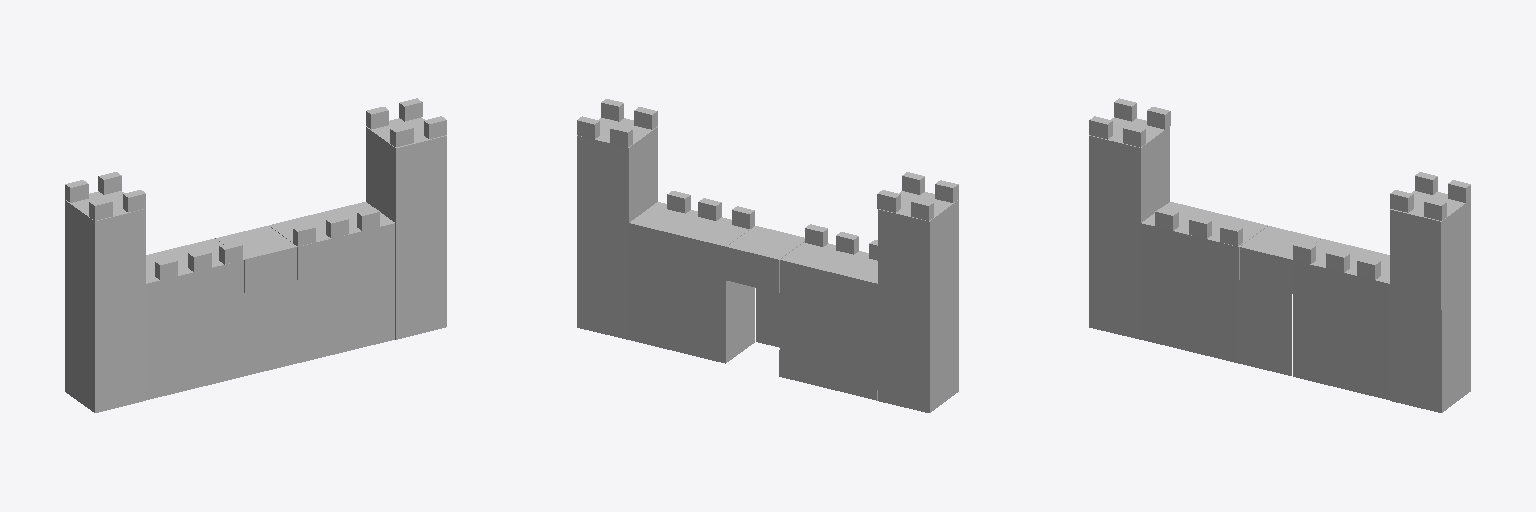
Rendered from CastleFront.obj.
The picture shows the model from 3 angles: view 1: azimuth 30°, elevation 25°; view 2: azimuth 150°, elevation 25°; view 3: azimuth 330°, elevation 25°; orthographic projection.
Parts seen in each view (by area): view 1: Cube, Cube.002, Cube.003, Cube.001_Cube.018, Plane, Cube.018_Cube.023; view 2: Cube, Cube.002, Cube.001_Cube.018, Cube.003, Cube.018_Cube.023, Plane; view 3: Cube.003, Cube.001_Cube.018, Cube, Cube.002, Plane, Cube.018_Cube.023.
Boxes of the visible parts, box(x1,y1,x2,y2) form: Cube: box(65, 191, 145, 412); Cube.002: box(269, 202, 394, 362); Cube.003: box(366, 117, 446, 339); Cube.001_Cube.018: box(146, 238, 243, 399); Plane: box(244, 280, 297, 375); Cube.018_Cube.023: box(215, 226, 296, 292); Cube: box(878, 191, 958, 412); Cube.002: box(629, 202, 754, 363); Cube.001_Cube.018: box(779, 242, 877, 400); Cube.003: box(577, 118, 657, 339); Cube.018_Cube.023: box(726, 226, 804, 292); Plane: box(756, 288, 779, 347); Cube.003: box(1390, 191, 1470, 412); Cube.001_Cube.018: box(1141, 202, 1267, 363); Cube: box(1089, 117, 1169, 339); Cube.002: box(1293, 239, 1389, 399); Plane: box(1238, 280, 1291, 375); Cube.018_Cube.023: box(1240, 226, 1320, 293).
Bounding box in the file's own units: 13.34 × 7.5 × 1.99.